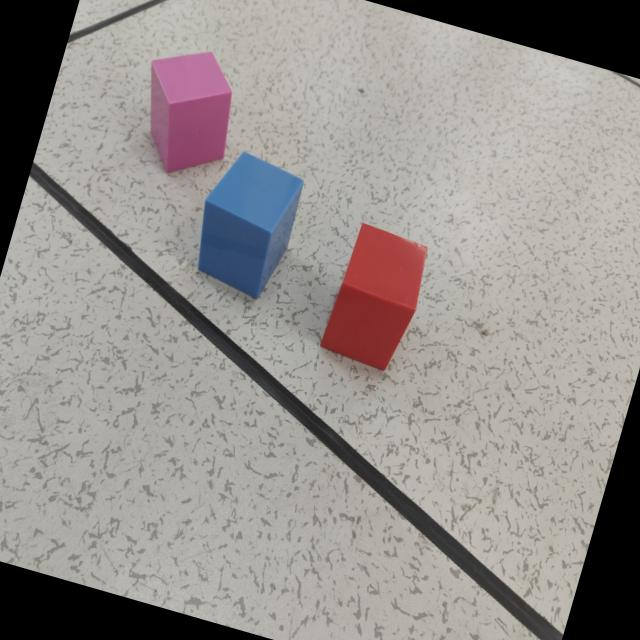blue: (196, 153, 302, 300)
pink: (148, 51, 232, 175)
red: (319, 225, 428, 373)
